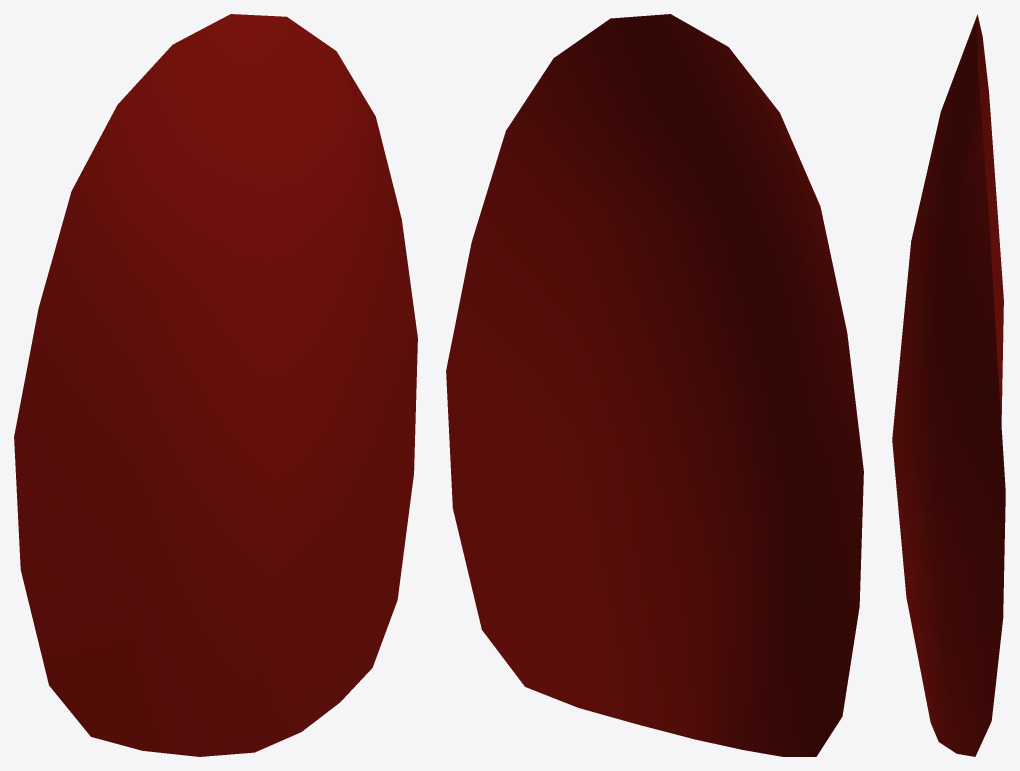
Rendered from MD_nail_natural_HandR.Little.fbx.
3 views of the same model, side by side, from view 1: azimuth 30°, elevation 25°; view 2: azimuth 150°, elevation 25°; view 3: azimuth 270°, elevation 25° (orthographic). The views are drawn at different scales.
Parts seen in each view (by area): view 1: MD_nail_natural_HandR.Little; view 2: MD_nail_natural_HandR.Little; view 3: MD_nail_natural_HandR.Little.
Part boxes in pixels (<box>): MD_nail_natural_HandR.Little: <box>14,14,417,756</box>; MD_nail_natural_HandR.Little: <box>446,14,863,756</box>; MD_nail_natural_HandR.Little: <box>892,14,1005,756</box>.
Size of the model in its own units: 0.5797 by 0.9874 by 0.1456.
